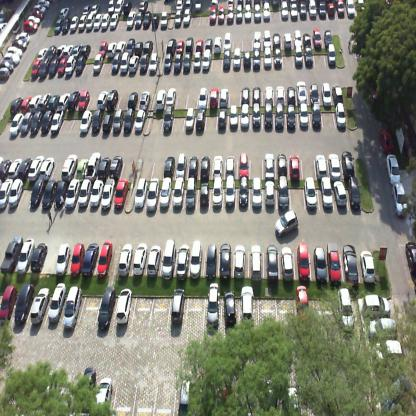car: (382, 374, 410, 414), (13, 284, 34, 328), (62, 286, 82, 332), (1, 235, 22, 276), (96, 287, 114, 334), (47, 282, 65, 326), (359, 292, 390, 317), (30, 286, 49, 326), (168, 286, 186, 328), (337, 288, 354, 332), (114, 288, 132, 328), (16, 237, 34, 277), (160, 238, 176, 282), (373, 342, 405, 363), (80, 243, 99, 278), (274, 209, 297, 237), (1, 284, 17, 324), (206, 283, 219, 332), (97, 240, 112, 281), (392, 181, 408, 219), (216, 383, 235, 415), (240, 284, 254, 327), (223, 287, 237, 329), (367, 320, 396, 340), (63, 178, 80, 212), (262, 379, 278, 415), (117, 242, 132, 280), (54, 243, 70, 278), (132, 242, 148, 277), (176, 244, 190, 284), (82, 366, 96, 405), (344, 243, 357, 285), (30, 242, 46, 276), (40, 180, 57, 212), (295, 286, 310, 322), (145, 178, 160, 214), (189, 240, 202, 280), (314, 245, 327, 285), (361, 249, 375, 286), (133, 176, 147, 213), (28, 178, 44, 210), (69, 243, 84, 277), (146, 244, 161, 278), (297, 242, 309, 284), (76, 178, 92, 209), (97, 376, 112, 409), (89, 179, 104, 212), (266, 244, 278, 285), (219, 243, 231, 283), (386, 152, 401, 184), (8, 178, 23, 210), (114, 176, 128, 210), (84, 150, 101, 178), (303, 176, 317, 209), (404, 240, 416, 278), (348, 175, 361, 210), (60, 154, 78, 179), (100, 178, 114, 210), (52, 180, 66, 212), (205, 245, 217, 282), (329, 249, 341, 286), (320, 176, 333, 210), (277, 175, 289, 211), (285, 387, 300, 415), (251, 245, 262, 283), (282, 247, 293, 285), (159, 178, 172, 210), (289, 150, 301, 184), (342, 147, 354, 181), (224, 175, 236, 209), (234, 244, 245, 281), (28, 156, 44, 181), (1, 178, 13, 211), (380, 128, 394, 156), (121, 108, 135, 136), (333, 181, 347, 208), (161, 105, 174, 134), (173, 176, 184, 210), (263, 149, 275, 180), (39, 157, 55, 180), (78, 110, 92, 136), (179, 378, 190, 411), (328, 151, 340, 181), (264, 179, 276, 209), (9, 114, 24, 138), (186, 177, 196, 212), (97, 155, 111, 180), (175, 150, 187, 179), (17, 157, 32, 180), (252, 176, 262, 210), (239, 176, 249, 210), (133, 108, 146, 134), (50, 108, 63, 134), (212, 174, 222, 206), (314, 151, 326, 177), (276, 152, 288, 178), (109, 156, 123, 178), (295, 80, 307, 105), (90, 109, 102, 134), (29, 111, 41, 136), (76, 90, 90, 111), (36, 59, 50, 80), (213, 152, 224, 178), (9, 157, 22, 179), (335, 104, 346, 130), (36, 93, 51, 112), (8, 97, 23, 116), (239, 151, 249, 179), (200, 152, 210, 180), (252, 102, 262, 130), (105, 88, 119, 108), (112, 110, 123, 135), (40, 111, 51, 136), (199, 183, 209, 210), (263, 104, 273, 131), (188, 154, 199, 178), (165, 86, 176, 110), (20, 112, 31, 136), (303, 46, 314, 70), (91, 54, 103, 76), (29, 57, 41, 79), (55, 54, 66, 78), (287, 103, 296, 132), (275, 102, 284, 131), (217, 106, 227, 132), (67, 91, 80, 111), (119, 51, 129, 77), (155, 89, 166, 112), (76, 157, 88, 178), (240, 102, 249, 130), (96, 89, 108, 110), (108, 55, 120, 76), (63, 56, 75, 77), (298, 104, 308, 129), (196, 109, 206, 134), (208, 87, 218, 112), (321, 83, 331, 108), (312, 104, 321, 131), (229, 103, 238, 130), (332, 85, 343, 107), (165, 154, 175, 178), (138, 90, 150, 110), (198, 86, 208, 110), (219, 86, 229, 110), (309, 83, 319, 107), (74, 56, 86, 76), (57, 91, 70, 109), (27, 95, 40, 113), (19, 96, 32, 114), (200, 50, 211, 71), (312, 29, 322, 52), (252, 26, 262, 49), (148, 52, 158, 75), (128, 54, 138, 77), (48, 56, 58, 79), (294, 43, 303, 68), (6, 44, 22, 58), (240, 84, 250, 106), (264, 84, 274, 106), (275, 84, 286, 104), (286, 84, 296, 106), (103, 112, 113, 134), (172, 52, 182, 74), (138, 53, 148, 75), (317, 0, 327, 22), (163, 52, 172, 76), (0, 58, 15, 72), (186, 106, 194, 132), (283, 30, 292, 53), (326, 46, 336, 66), (262, 28, 272, 48), (212, 35, 222, 55), (92, 10, 102, 30), (226, 155, 235, 177), (1, 157, 10, 179), (263, 47, 272, 69), (252, 49, 261, 71), (4, 52, 20, 64), (53, 16, 63, 35), (158, 10, 168, 29), (181, 8, 191, 27), (233, 4, 242, 25), (233, 47, 241, 70), (44, 45, 57, 59), (302, 31, 312, 49), (125, 38, 135, 56), (84, 10, 93, 30), (125, 10, 134, 30), (224, 30, 232, 52), (223, 50, 231, 72), (193, 52, 201, 74), (15, 31, 31, 42), (106, 41, 115, 60), (127, 91, 137, 108), (115, 40, 125, 57), (76, 13, 86, 30), (100, 13, 110, 30), (324, 27, 332, 48), (244, 50, 252, 71), (183, 54, 191, 75), (12, 38, 26, 50), (253, 2, 261, 23), (262, 1, 270, 22), (308, 0, 316, 21), (252, 85, 261, 103), (49, 92, 58, 110), (299, 2, 308, 20), (346, 0, 355, 18), (143, 40, 153, 56), (37, 44, 47, 60), (109, 13, 119, 29), (244, 2, 252, 22), (272, 31, 281, 48), (274, 49, 282, 68), (70, 13, 78, 32), (142, 9, 150, 28), (165, 38, 175, 53), (175, 39, 184, 55), (99, 40, 108, 56), (62, 43, 73, 56), (24, 21, 37, 32), (32, 6, 43, 19), (58, 6, 69, 19), (80, 44, 90, 58), (217, 4, 224, 24), (338, 0, 345, 20), (356, 0, 366, 14), (186, 36, 194, 53), (134, 10, 142, 27), (195, 38, 204, 53), (209, 5, 216, 24), (28, 14, 40, 25), (204, 37, 212, 53), (290, 3, 298, 19), (327, 2, 335, 18), (293, 29, 302, 43), (61, 18, 70, 32), (174, 10, 181, 28), (281, 2, 288, 20), (35, 1, 46, 12), (54, 44, 62, 59), (114, 0, 124, 12), (124, 1, 134, 13), (226, 4, 233, 21), (152, 13, 159, 29), (1, 68, 11, 79), (90, 3, 100, 14), (72, 44, 81, 56), (193, 2, 202, 14), (135, 41, 142, 55), (139, 1, 148, 11), (82, 3, 90, 14), (175, 1, 184, 10), (184, 0, 192, 10), (108, 0, 113, 12)
